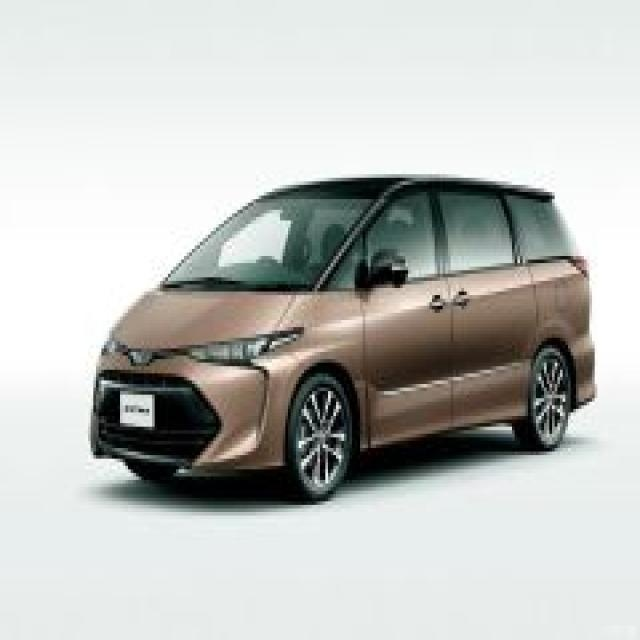Van: (90, 174, 602, 502)
